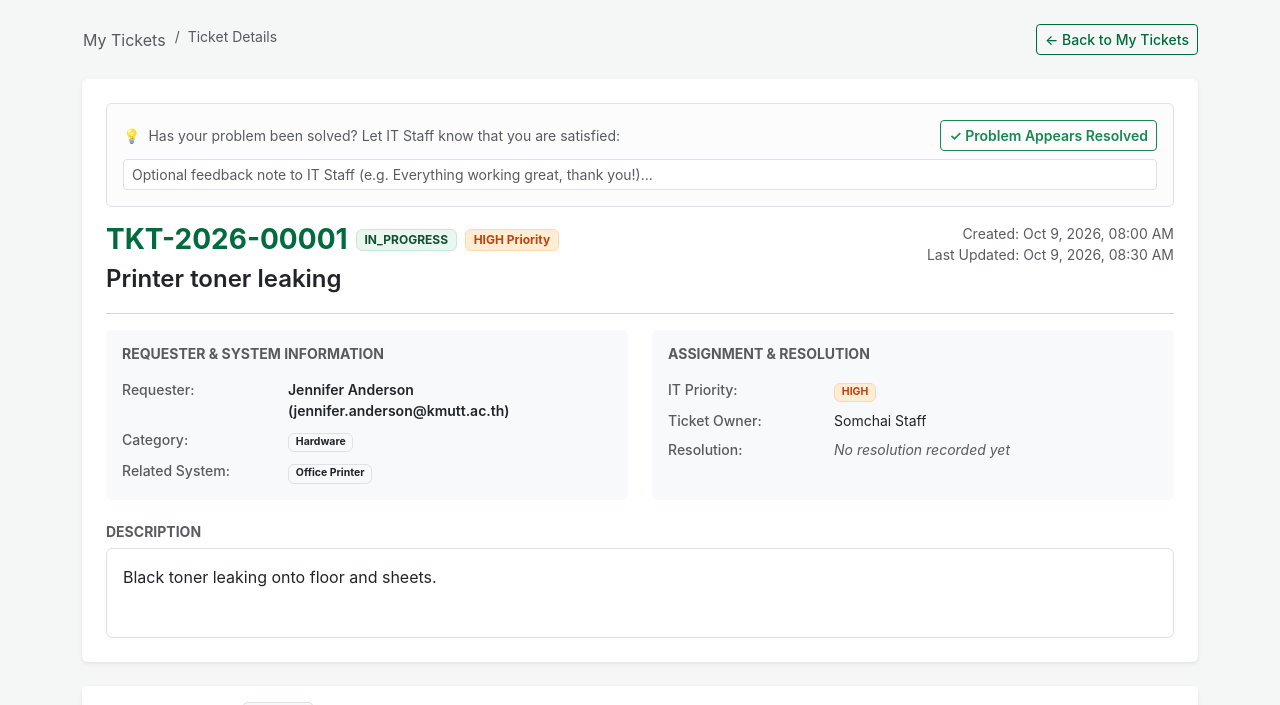
Test case: Feature-15: Ticket Workflow & Resolution Gate UI Tests › Requester Advisory Confirmation Modal & Note Support (FR-45, FR-46, Section 5.3) › opens requester resolve modal and submits optional note to resolve-indication endpoint
Expected: the button with test id "problem-appears-resolved-btn" is shown, [940,120,1157,151]
Note: Enter optional feedback note
Replace the text in the field with test id "resolve-feedback-input" with "Printer is working perfectly now, thanks!" at (640, 174), box [123,159,1157,190]
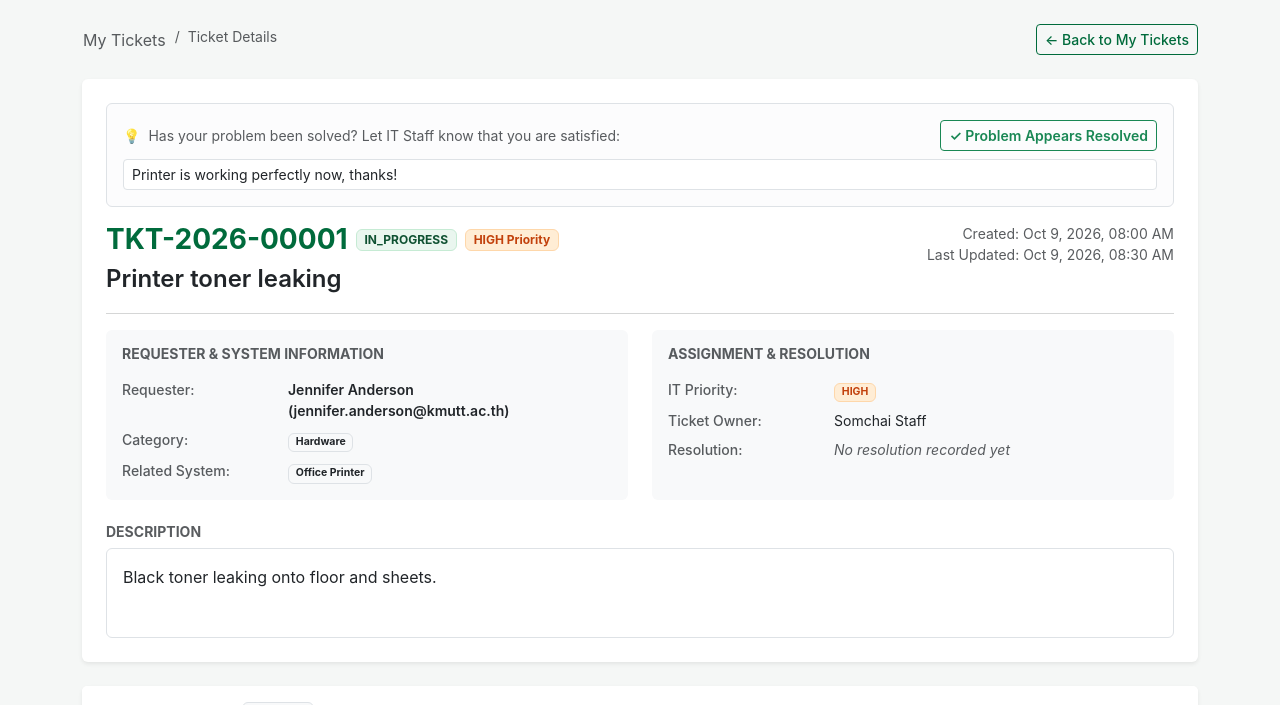
Note: Submit resolution indication
Click the button with test id "problem-appears-resolved-btn".
click(1049, 136)  # box [940,120,1157,151]
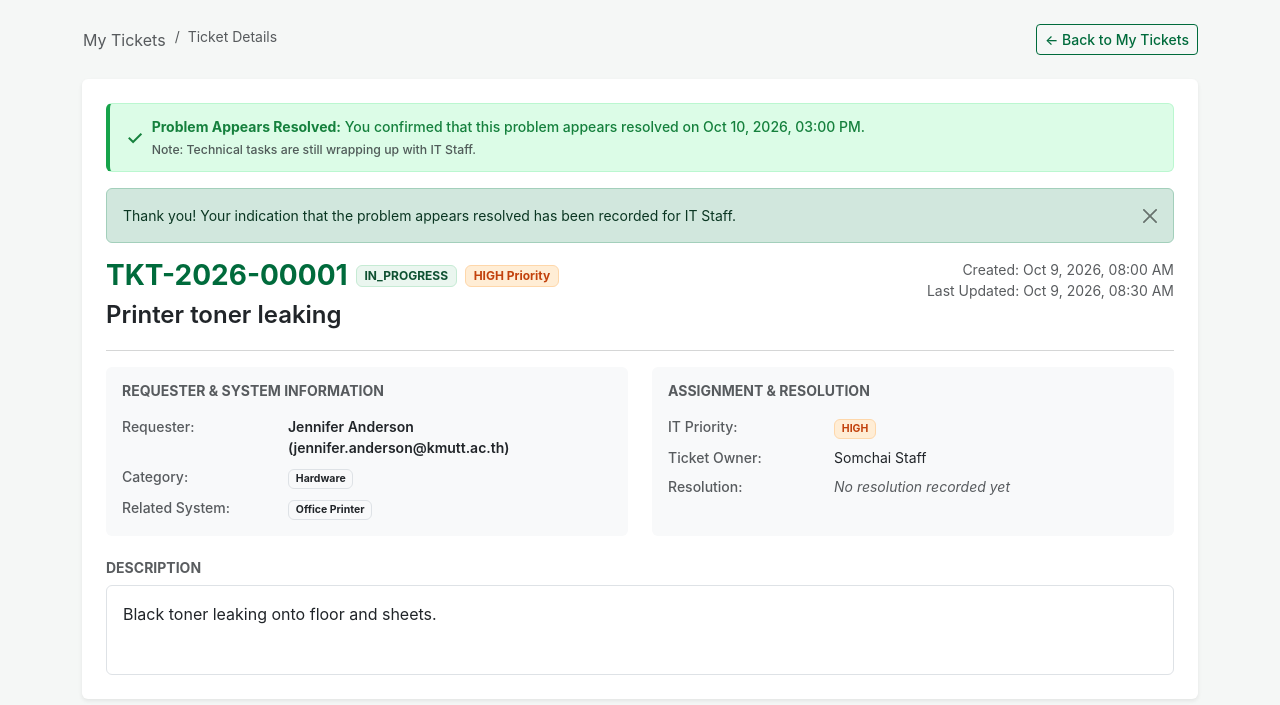
Result: the element with test id "requester-resolved-indication" is shown at [106,103,1174,172]
Result: the text with test id "requester-open-actions-note" reads "Note: Technical tasks are still wrapping up with IT Staff." at [152,142,476,157]
